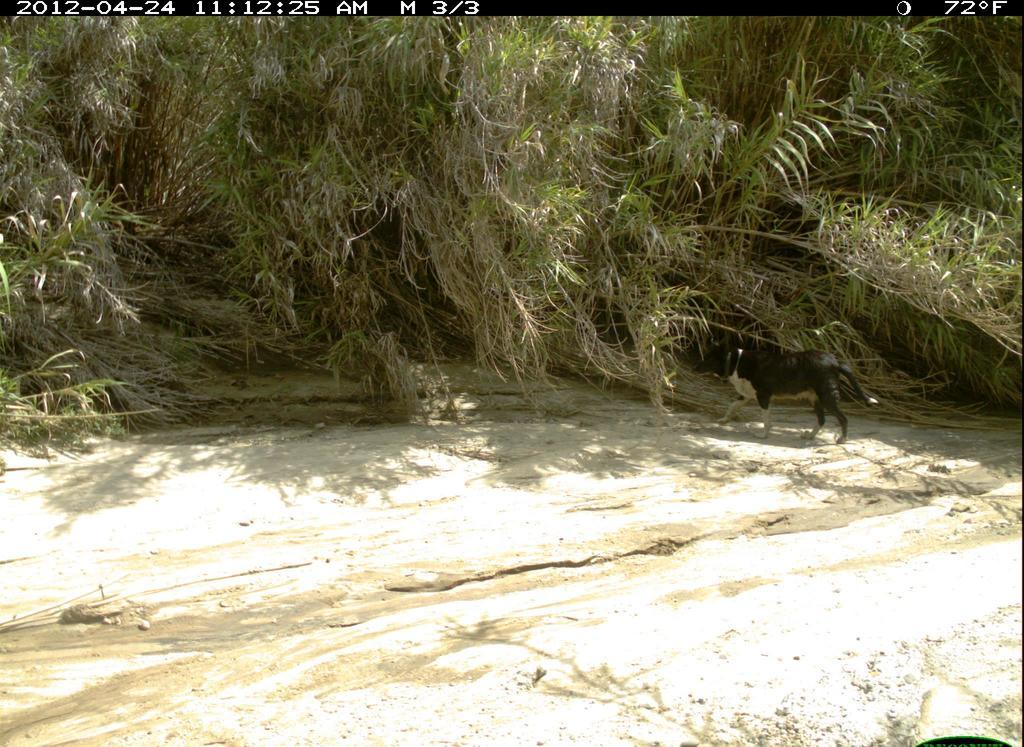dog: (692, 329, 884, 450)
